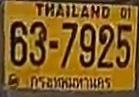2: (98, 25, 114, 67)
3: (29, 21, 46, 65)
5: (115, 24, 131, 67)
6: (9, 20, 26, 65)
7: (61, 22, 78, 67)
9: (79, 22, 95, 66)
BKK: (26, 72, 115, 92)
